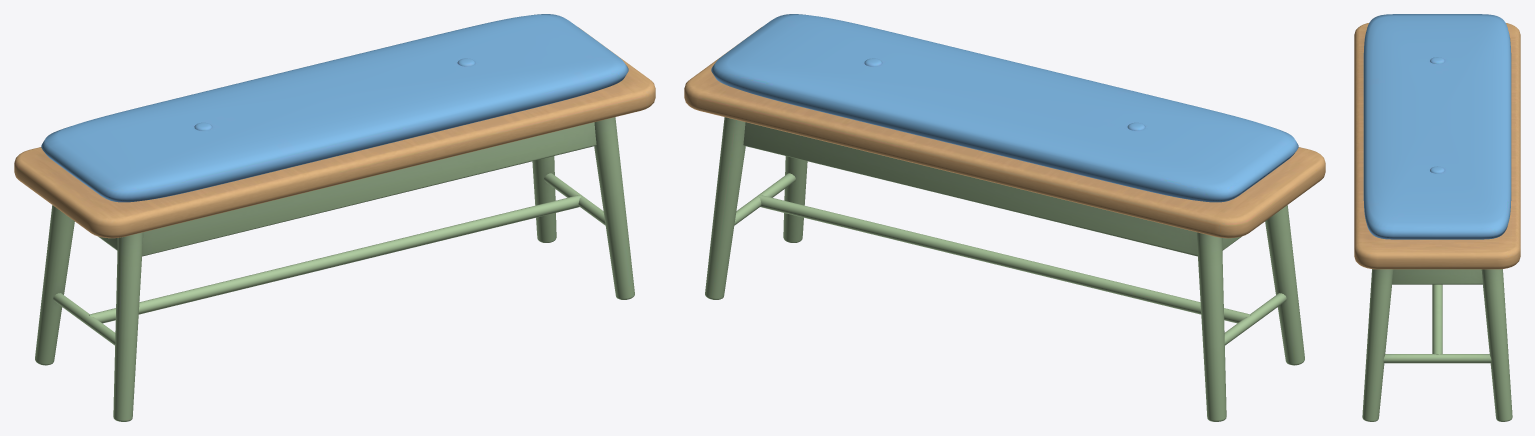
File: bench.glb
The picture shows the model from 3 angles, left to right: view 1: azimuth 30°, elevation 25°; view 2: azimuth 150°, elevation 25°; view 3: azimuth 270°, elevation 25°; orthographic projection. The views are drawn at different scales.
Visible parts, largest first — view 1: bench_body; view 2: bench_body; view 3: bench_body.
Part boxes in pixels (<box>): bench_body: <box>14,14,655,421</box>; bench_body: <box>684,14,1325,421</box>; bench_body: <box>1354,14,1520,421</box>.
Size of the model in its own units: 1.2 by 0.4815 by 0.36.
1 material, 1 textured.
